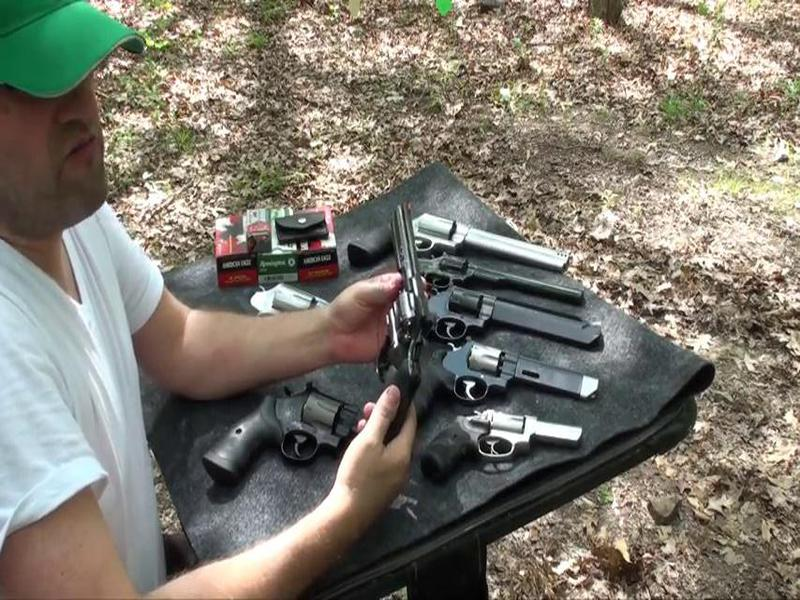Revolver: (326, 193, 432, 451)
